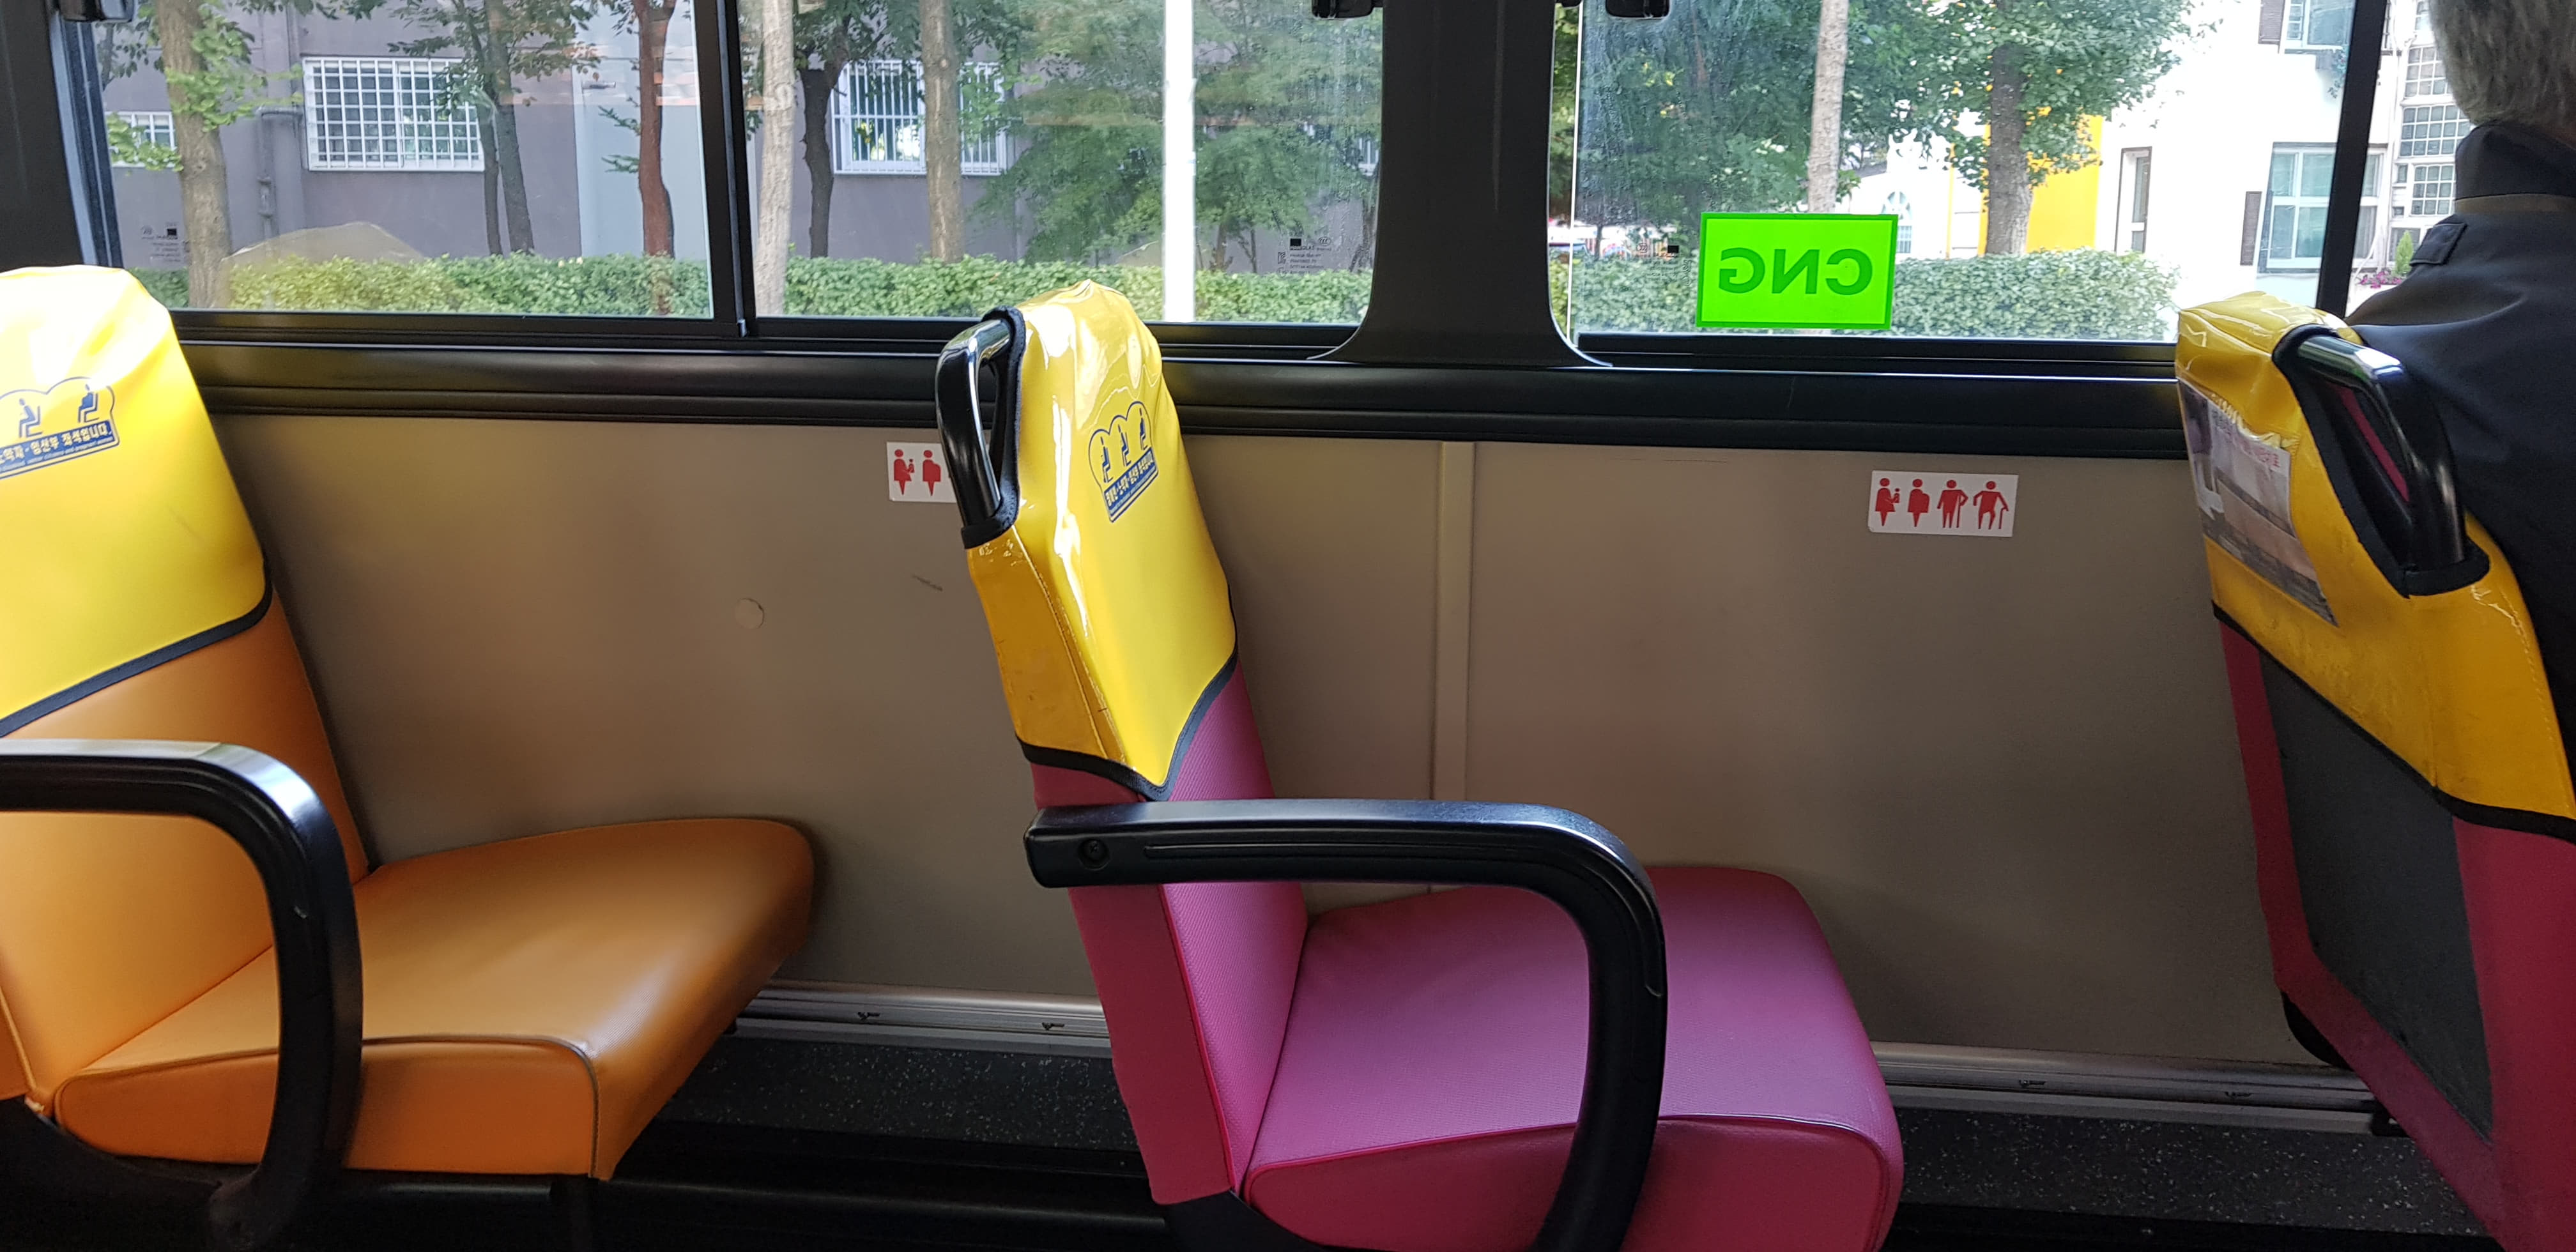seat: (946, 281, 1893, 1227)
